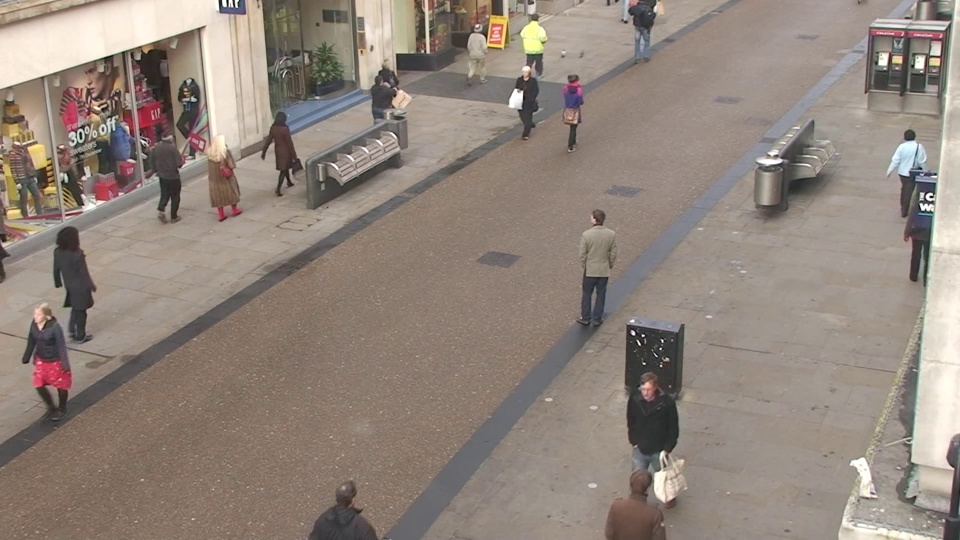pedestrian: (18, 296, 84, 438), (621, 367, 674, 528), (48, 222, 104, 344), (609, 457, 670, 540), (318, 468, 384, 540), (883, 125, 929, 226), (580, 203, 618, 323), (133, 133, 175, 230), (201, 129, 240, 226), (265, 108, 300, 199), (366, 71, 396, 154), (373, 57, 402, 136), (513, 63, 541, 144), (559, 70, 586, 153), (466, 21, 491, 90), (522, 11, 546, 77)
